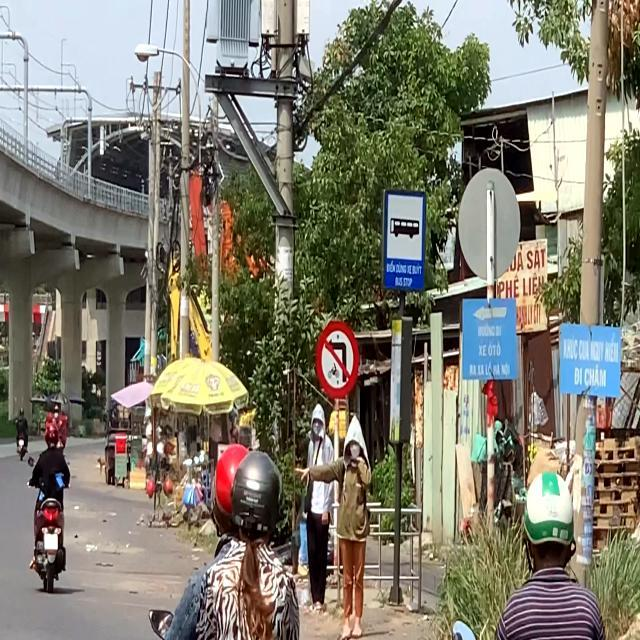I-434a: (381, 190, 426, 292)
P-123a: (315, 319, 359, 397)
